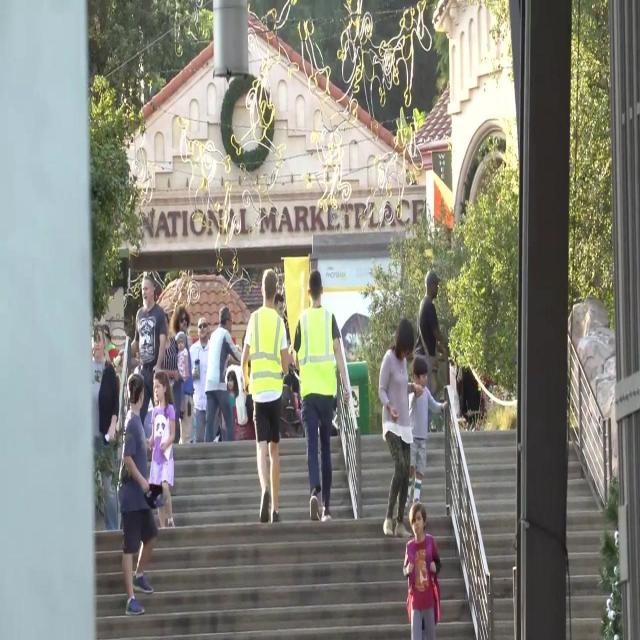Vest: (299, 308, 337, 398), (248, 306, 284, 391)
